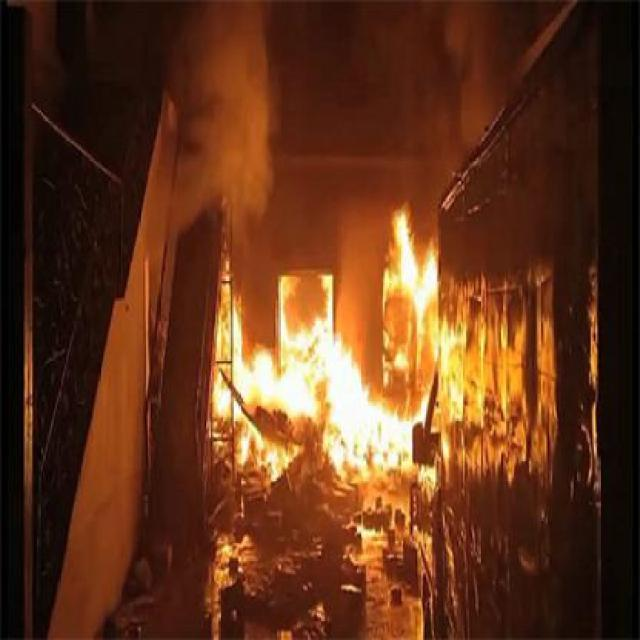Fire: (319, 332, 417, 491), (254, 353, 303, 412), (228, 306, 252, 405), (394, 210, 418, 290), (313, 330, 350, 366), (289, 322, 326, 356), (420, 240, 438, 302), (278, 273, 292, 350), (322, 427, 346, 467), (212, 383, 235, 419), (324, 276, 336, 336), (304, 375, 320, 420), (238, 405, 250, 463), (410, 290, 428, 326), (264, 444, 281, 479), (393, 348, 410, 376), (382, 262, 393, 304), (416, 392, 430, 420), (250, 426, 264, 448)
